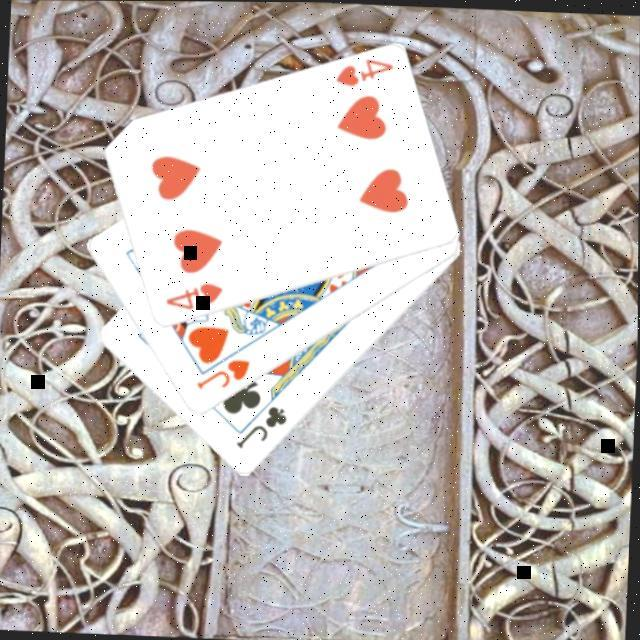4H: (330, 53, 395, 90), (161, 276, 224, 313)
JC: (232, 399, 290, 451)
JH: (191, 353, 252, 393)
